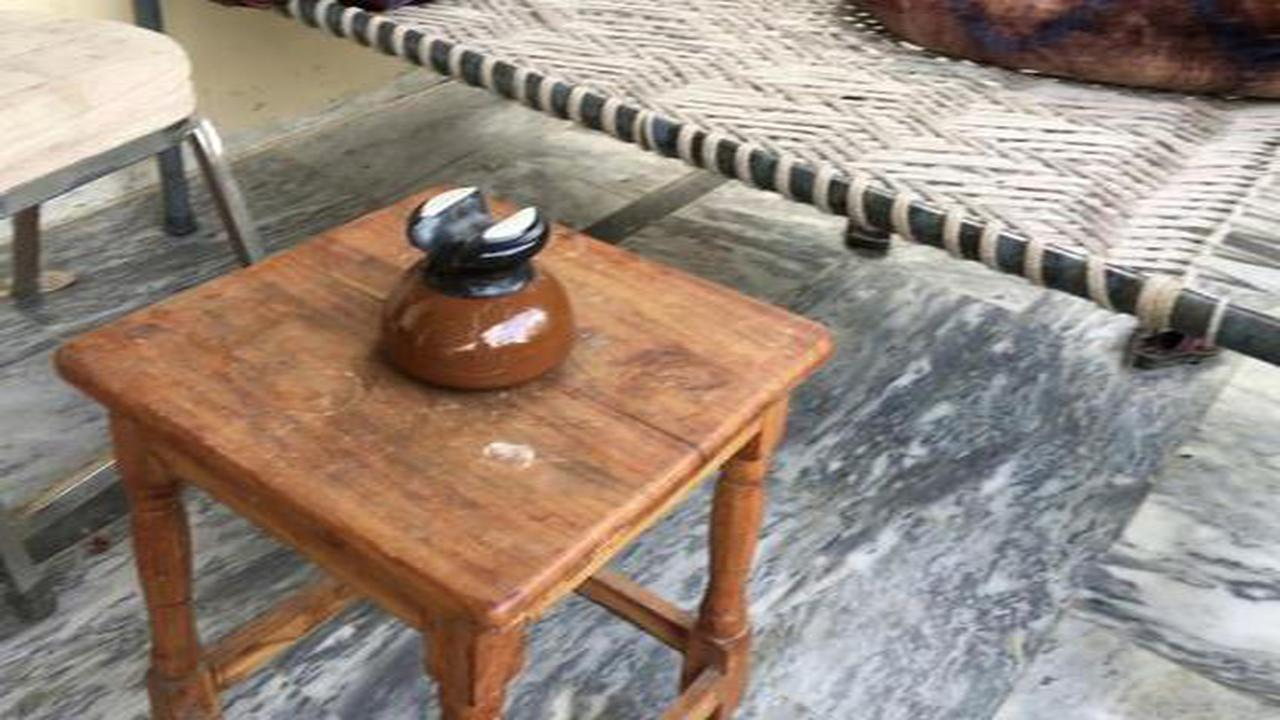insulator_pin: (364, 164, 591, 406)
